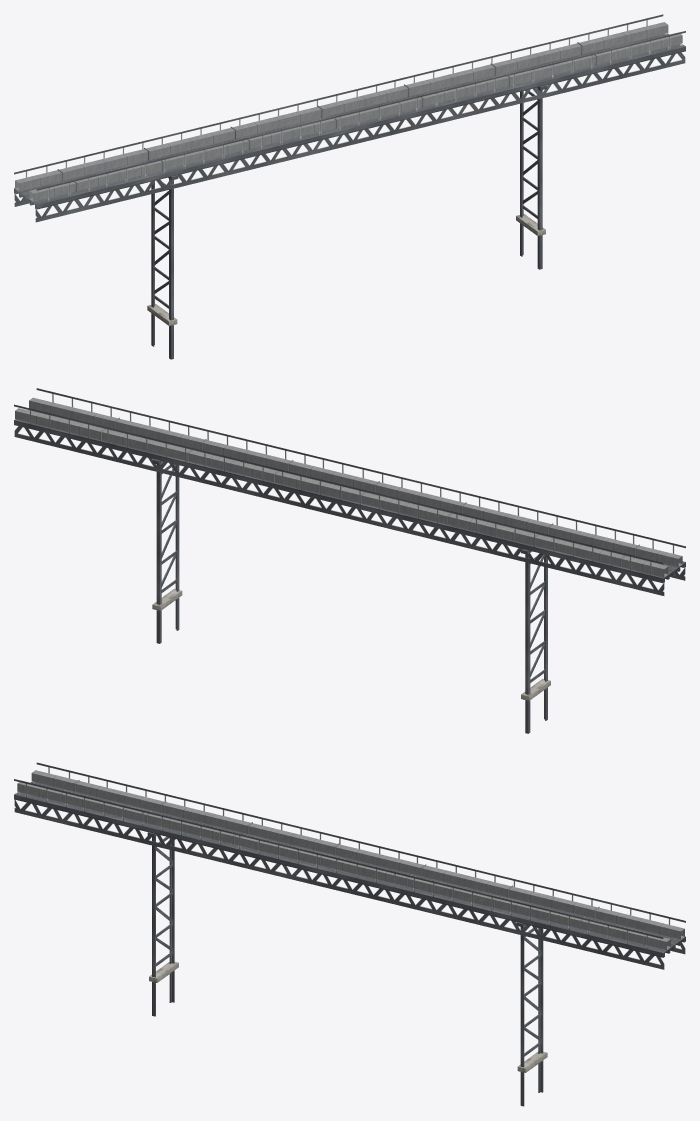
File: plant-building52.glb
The picture shows the model from 3 angles, top to bottom: view 1: azimuth 30°, elevation 25°; view 2: azimuth 150°, elevation 25°; view 3: azimuth 330°, elevation 25°; orthographic projection.
Parts seen in each view (by area): view 1: Object8935674; view 2: Object8935674; view 3: Object8935674.
Boxes of the visible parts, bbox=[...] form: Object8935674: bbox=[14, 14, 685, 359]; Object8935674: bbox=[14, 388, 685, 733]; Object8935674: bbox=[14, 762, 685, 1106].
Size of the model in its own units: 48.82 by 14.73 by 3.19.
1 material, 1 textured.
